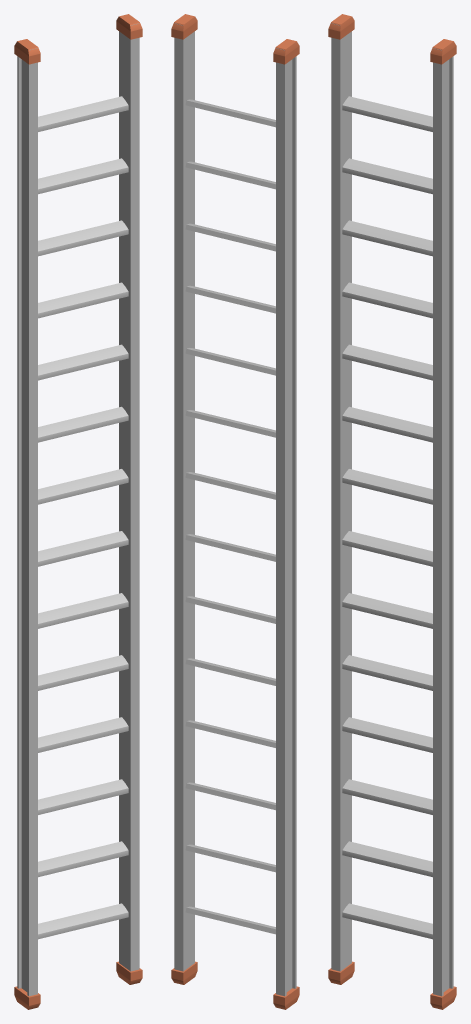
Rendered from ladder.fbx.
The picture shows the model from 3 angles, left to right: view 1: azimuth 30°, elevation 25°; view 2: azimuth 150°, elevation 25°; view 3: azimuth 330°, elevation 25°; orthographic projection.
Parts seen in each view (by area): view 1: pCube1, pCube18, pCube76, pCube78, pCube85, pCube75, pCube77, pCube80, pCube82, pCube70, pCube74, pCube79 (+8 smaller); view 2: pCube1, pCube18, pCube70, pCube75, pCube81, pCube84, pCube76, pCube78, pCube79, pCube80, pCube82, pCube83 (+8 smaller); view 3: pCube18, pCube1, pCube76, pCube78, pCube85, pCube75, pCube77, pCube80, pCube82, pCube70, pCube74, pCube79 (+8 smaller).
Boxes of the visible parts, x1=… form: pCube1: x1=17, y1=48, x2=37, y2=996; pCube18: x1=119, y1=23, x2=139, y2=971; pCube76: x1=38, y1=282, x2=128, y2=318; pCube78: x1=38, y1=406, x2=128, y2=442; pCube85: x1=38, y1=841, x2=128, y2=877; pCube75: x1=38, y1=220, x2=128, y2=256; pCube77: x1=38, y1=344, x2=128, y2=380; pCube80: x1=38, y1=531, x2=128, y2=566; pCube82: x1=38, y1=655, x2=128, y2=690; pCube70: x1=38, y1=96, x2=128, y2=131; pCube74: x1=38, y1=158, x2=128, y2=194; pCube79: x1=38, y1=469, x2=128, y2=504; pCube1: x1=276, y1=48, x2=296, y2=996; pCube18: x1=174, y1=23, x2=194, y2=971; pCube70: x1=185, y1=99, x2=275, y2=127; pCube75: x1=185, y1=223, x2=275, y2=251; pCube81: x1=185, y1=596, x2=275, y2=623; pCube84: x1=185, y1=782, x2=275, y2=810; pCube76: x1=185, y1=285, x2=275, y2=313; pCube78: x1=185, y1=410, x2=275, y2=437; pCube79: x1=185, y1=472, x2=275, y2=499; pCube80: x1=185, y1=534, x2=275, y2=561; pCube82: x1=185, y1=658, x2=275, y2=685; pCube83: x1=185, y1=720, x2=275, y2=747; pCube18: x1=433, y1=48, x2=453, y2=996; pCube1: x1=331, y1=23, x2=351, y2=971; pCube76: x1=342, y1=282, x2=432, y2=318; pCube78: x1=342, y1=406, x2=432, y2=442; pCube85: x1=342, y1=841, x2=432, y2=877; pCube75: x1=342, y1=220, x2=432, y2=256; pCube77: x1=342, y1=344, x2=432, y2=380; pCube80: x1=342, y1=531, x2=432, y2=566; pCube82: x1=342, y1=655, x2=432, y2=690; pCube70: x1=342, y1=96, x2=432, y2=131; pCube74: x1=342, y1=158, x2=432, y2=194; pCube79: x1=342, y1=469, x2=432, y2=504.
Bounding box in the file's own units: 3.85 × 31.16 × 0.8582.
